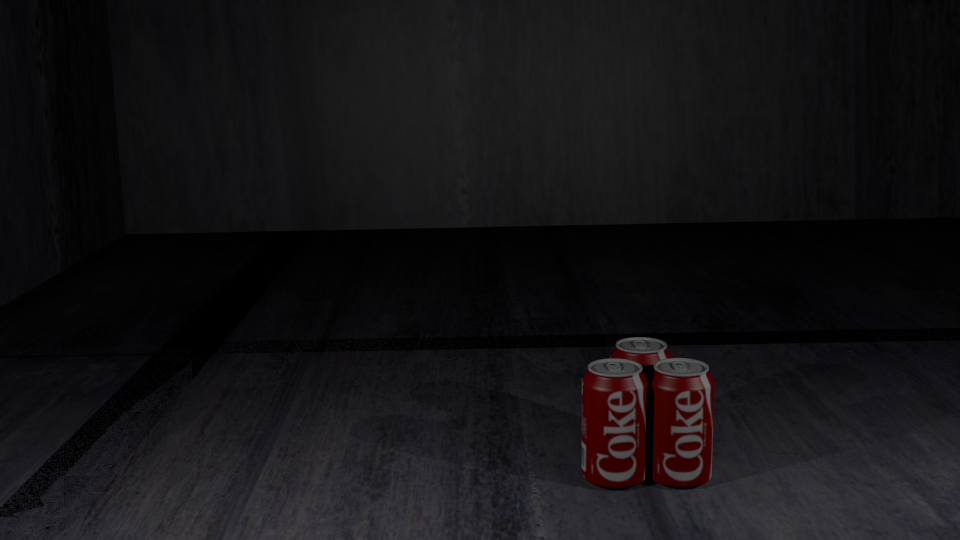cola_can: (647, 358, 713, 482), (582, 359, 647, 484), (611, 337, 671, 455)
